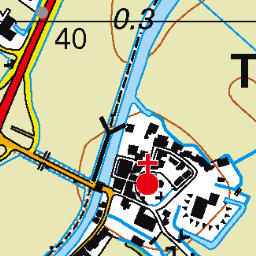church: (133, 152, 162, 198)
